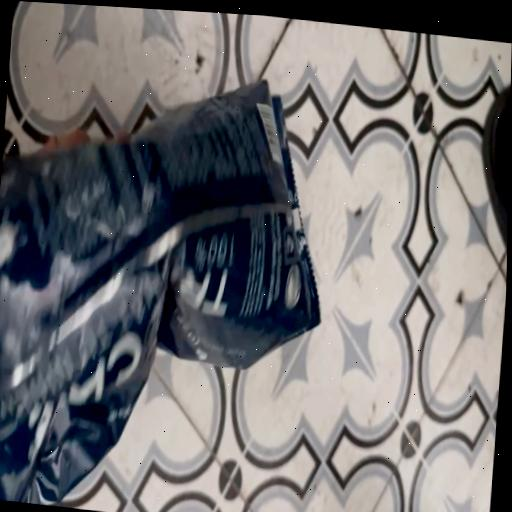cafe_hat: (0, 81, 319, 506)
